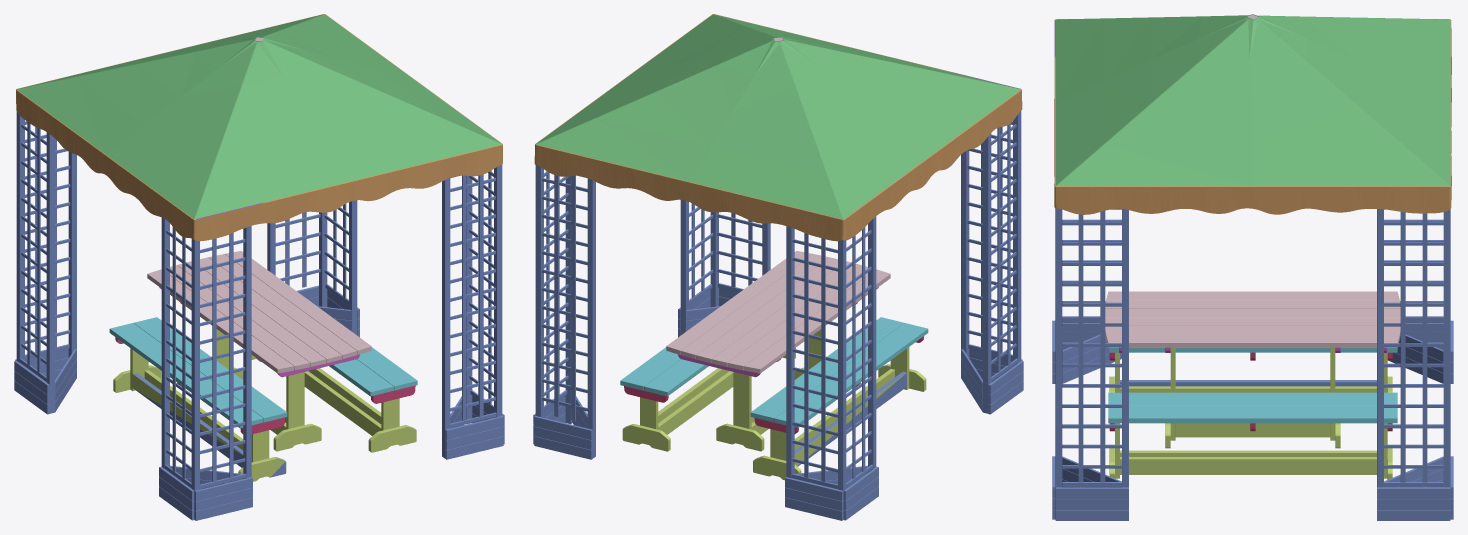
The picture shows the model from 3 angles, left to right: view 1: azimuth 30°, elevation 25°; view 2: azimuth 150°, elevation 25°; view 3: azimuth 270°, elevation 25°; orthographic projection. The views are drawn at different scales.
Visible parts, largest first — view 1: pred_mesh_gc.ply; view 2: pred_mesh_gc.ply; view 3: pred_mesh_gc.ply.
Part boxes in pixels (x1,y1,x2,y2): pred_mesh_gc.ply: (14,14,504,520); pred_mesh_gc.ply: (533,14,1023,520); pred_mesh_gc.ply: (1052,14,1453,520).
Size of the model in its own units: 0.5473 by 0.6326 by 0.5481.
